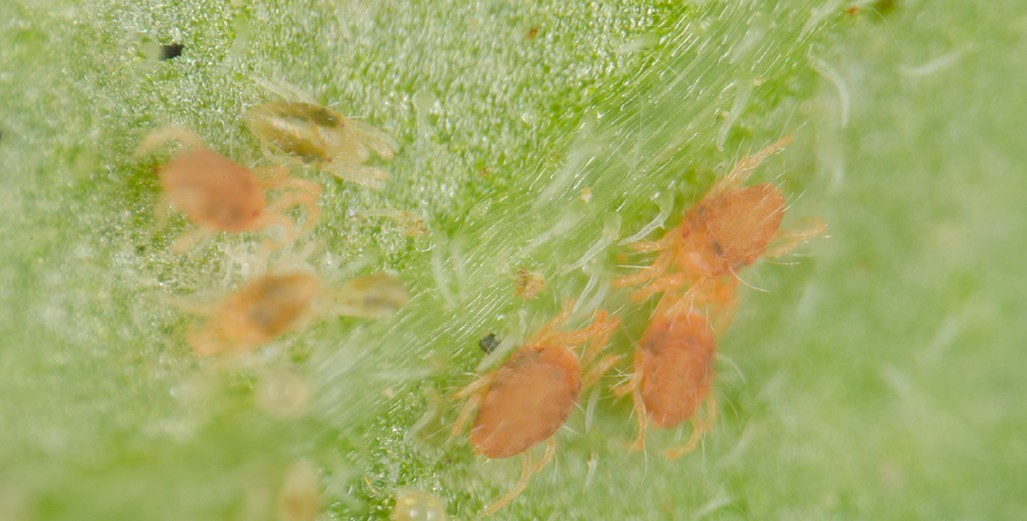Mites: (462, 318, 596, 484), (659, 172, 821, 301), (153, 114, 289, 247), (627, 304, 714, 454), (197, 260, 356, 339)
